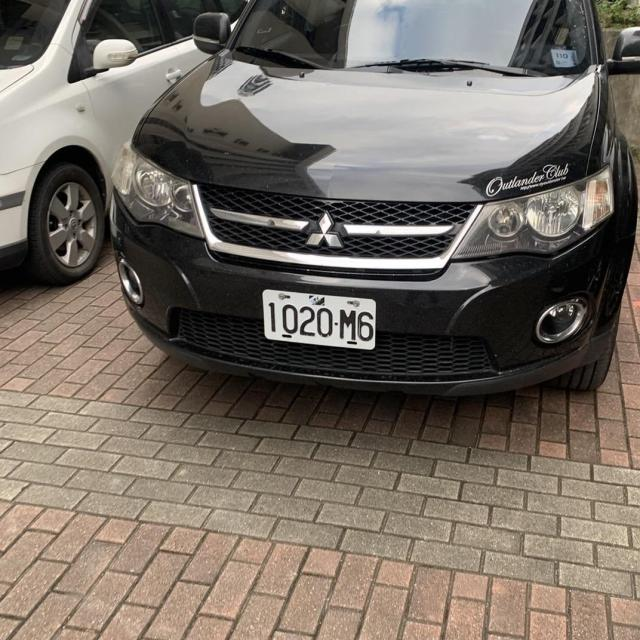W: (261, 288, 380, 355)
